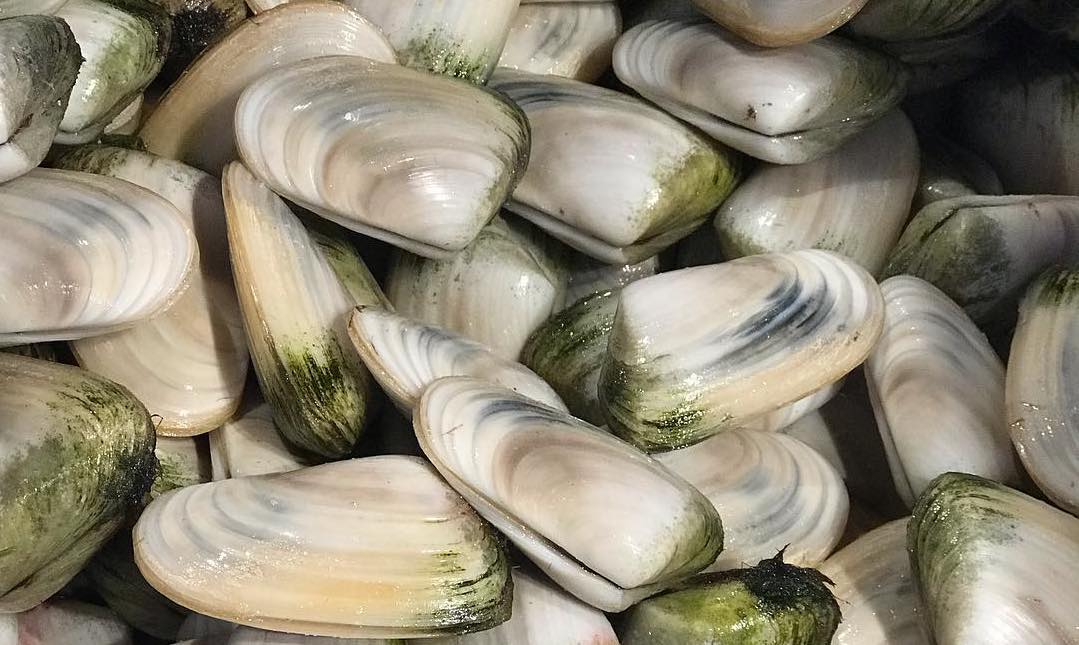tuatua: (408, 372, 731, 615), (125, 447, 515, 636), (226, 56, 544, 262), (594, 248, 885, 428), (609, 11, 915, 171), (220, 160, 370, 468), (504, 71, 723, 275), (1, 358, 166, 623), (863, 263, 1034, 515), (6, 161, 201, 348), (899, 465, 1068, 645), (346, 304, 577, 413), (890, 187, 1073, 317), (1, 11, 88, 184)
